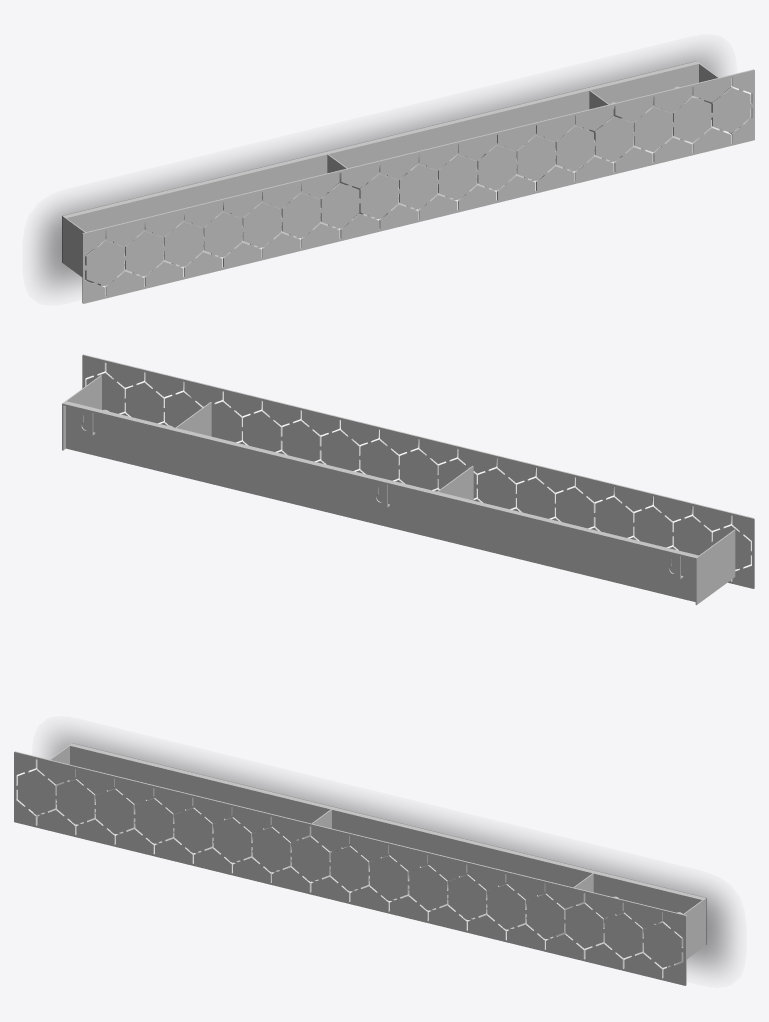
The model's file is bee-patron.08ec870a22.ar.glb.
3 views of the same model, one above another, from view 1: azimuth 30°, elevation 25°; view 2: azimuth 150°, elevation 25°; view 3: azimuth 330°, elevation 25° (orthographic).
Visible parts, largest first — view 1: NAUO1, object 2; view 2: NAUO1; view 3: NAUO1, object 2.
Part boxes in pixels (x1=…): NAUO1: x1=62, y1=61, x2=754, y2=303; object 2: x1=36, y1=51, x2=722, y2=288; NAUO1: x1=62, y1=354, x2=754, y2=604; NAUO1: x1=14, y1=743, x2=706, y2=985; object 2: x1=46, y1=733, x2=732, y2=970.
Size of the model in its own units: 0.98 by 0.17 by 0.092.
Materials: 2 (1 with a texture image).
